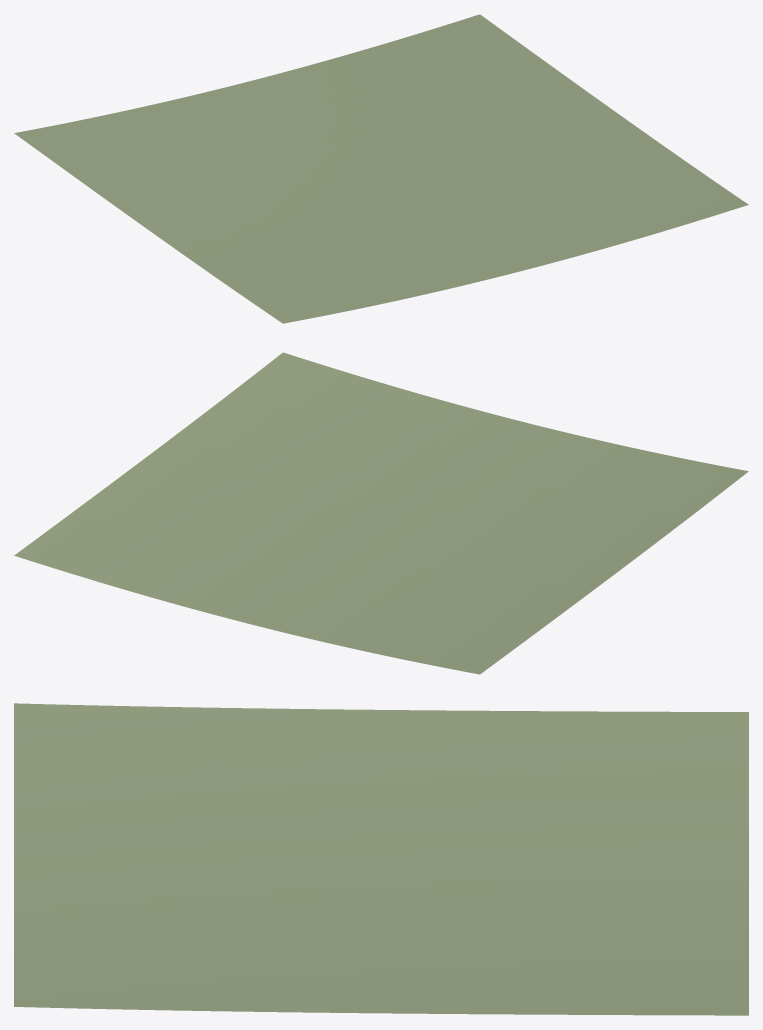
File: valley-4-11.glb
The picture shows the model from 3 angles, top to bottom: view 1: azimuth 30°, elevation 25°; view 2: azimuth 150°, elevation 25°; view 3: azimuth 270°, elevation 25°; orthographic projection. The views are drawn at different scales.
Parts seen in each view (by area): view 1: valley-4-11; view 2: valley-4-11; view 3: valley-4-11.
Part boxes in pixels (x1,y1,x2,y2): valley-4-11: [14, 14, 748, 323]; valley-4-11: [14, 352, 748, 674]; valley-4-11: [14, 703, 748, 1015].
Size of the model in its own units: 256 by 9.16 by 256.
